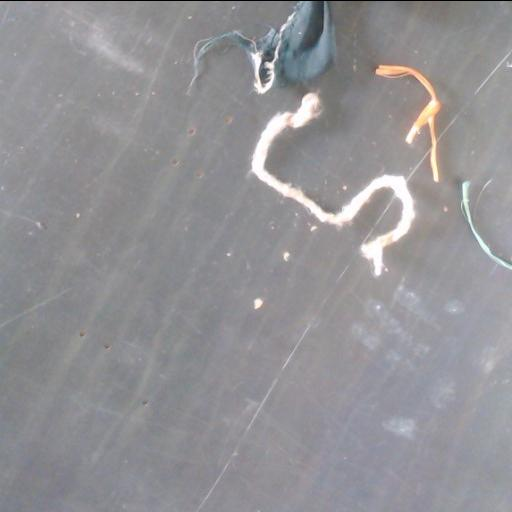cloth: (190, 1, 334, 93)
conveyor belt: (0, 1, 511, 512)
jute: (252, 93, 415, 274)
thread: (376, 64, 441, 180), (461, 180, 511, 269)
